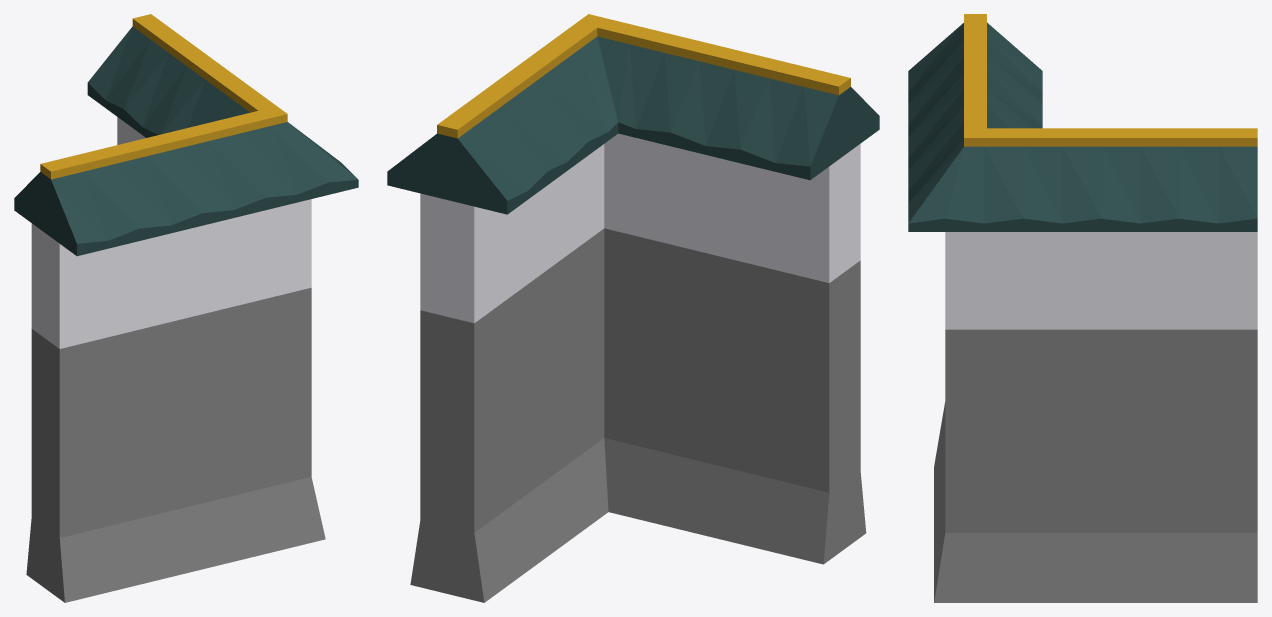
Rendered from Asian_Prop_Building_Fence_Wall_High_Corner_04.FBX.
The picture shows the model from 3 angles, left to right: view 1: azimuth 30°, elevation 25°; view 2: azimuth 150°, elevation 25°; view 3: azimuth 270°, elevation 25°; orthographic projection. The views are drawn at different scales.
Visible parts, largest first — view 1: Asian_Prop_Building_Fence_Wall_High_Corner_04; view 2: Asian_Prop_Building_Fence_Wall_High_Corner_04; view 3: Asian_Prop_Building_Fence_Wall_High_Corner_04.
Part boxes in pixels (left/top/right/bottom): Asian_Prop_Building_Fence_Wall_High_Corner_04: left=14, top=14, right=358, bottom=602; Asian_Prop_Building_Fence_Wall_High_Corner_04: left=387, top=14, right=879, bottom=602; Asian_Prop_Building_Fence_Wall_High_Corner_04: left=908, top=14, right=1257, bottom=602.
Size of the model in its own units: 2890 by 4128 by 2890.
